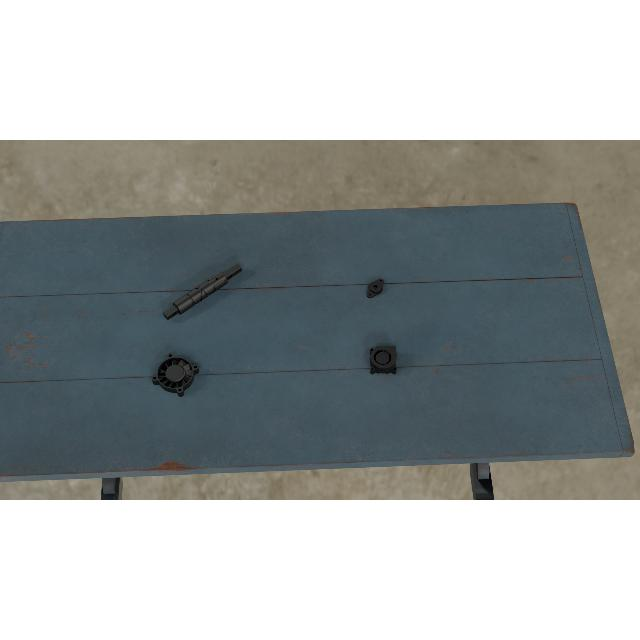Pieza1: (160, 259, 244, 325)
Pieza2: (362, 275, 388, 301)
Pieza3: (368, 346, 398, 376)
Pieza4: (150, 352, 200, 398)
